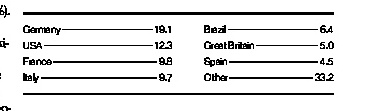table: (0, 0, 365, 111)
